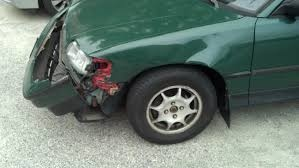Dent: (28, 56, 118, 113), (179, 36, 233, 65)
